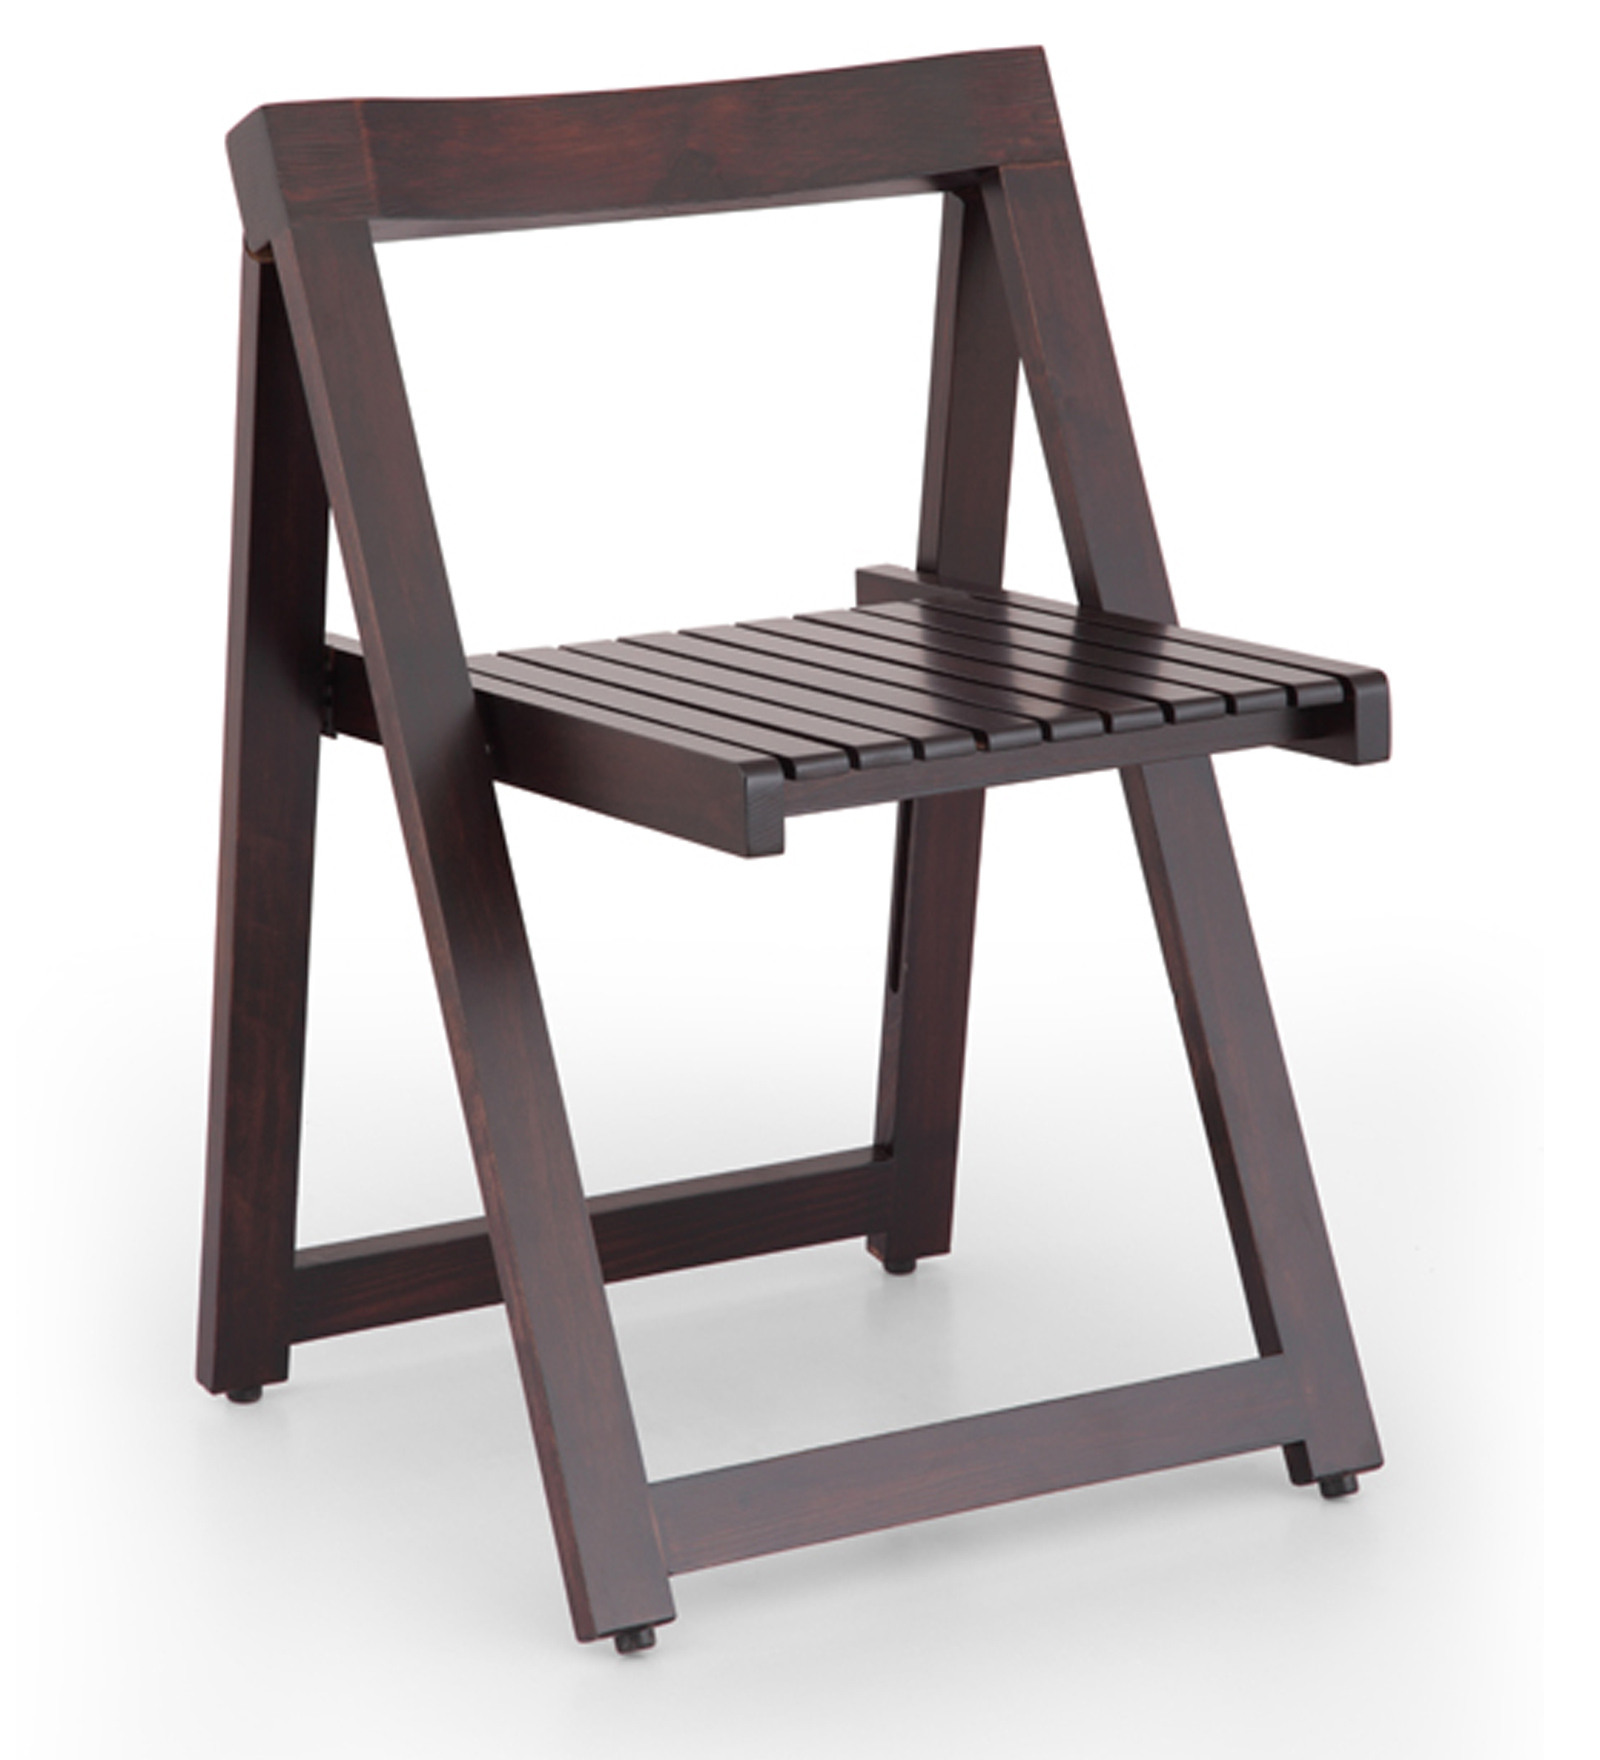Foldable Dining Chair in Ebony Finish by Ekbote Furniture: (141, 31, 1474, 1693)
